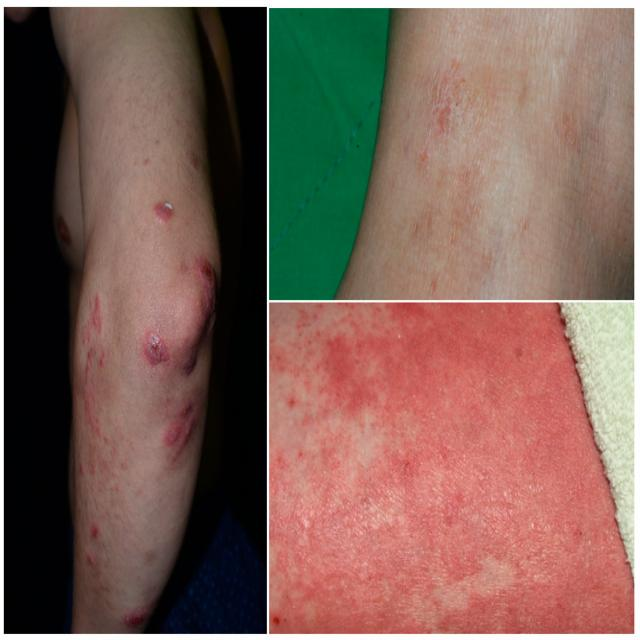eczema: (384, 360, 567, 572), (422, 62, 512, 256)
